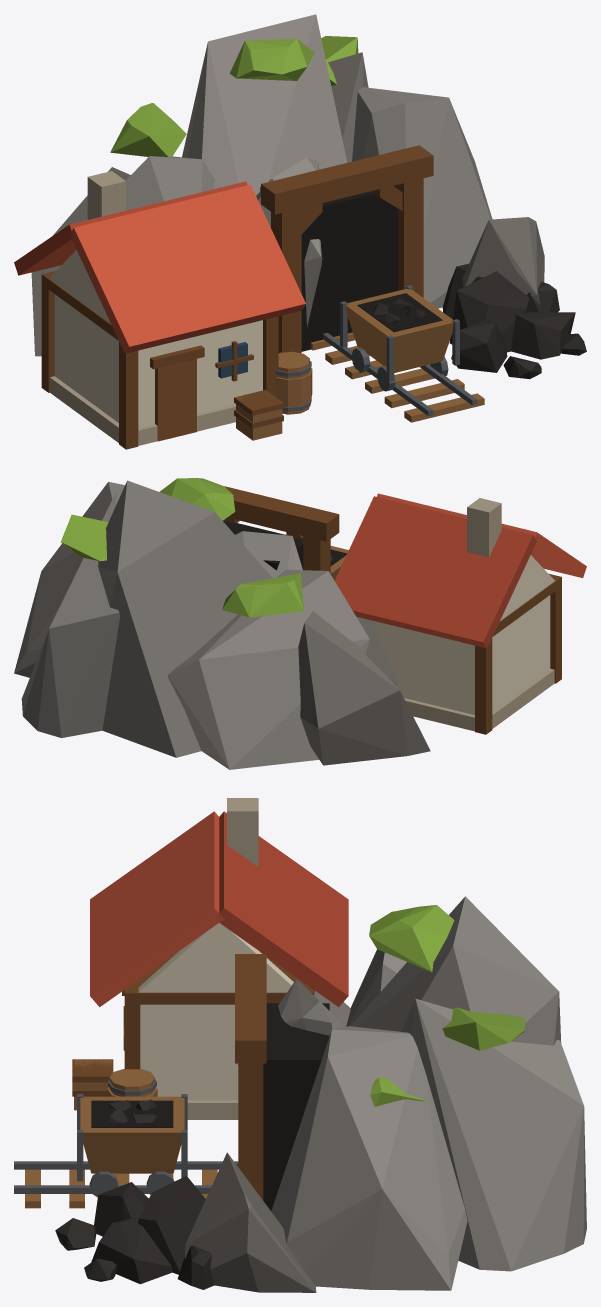
Rendered from mine_coal.glb.
3 views of the same model, one above another, from view 1: azimuth 30°, elevation 25°; view 2: azimuth 150°, elevation 25°; view 3: azimuth 270°, elevation 25° (orthographic). The views are drawn at different scales.
Visible parts, largest first — view 1: mine_coal_fels, mine_coal_dach, mine_coal_balken, mine_coal_stein, mine_coal_dunkel, mine_coal_kohle, mine_coal_holz, mine_coal_gras, mine_coal_fels_dunkel, mine_coal_stein_dunkel, mine_coal_eisen, mine_coal_tuer (+2 smaller); view 2: mine_coal_fels, mine_coal_dach_dunkel, mine_coal_fels_dunkel, mine_coal_stein, mine_coal_balken, mine_coal_gras, mine_coal_stein_dunkel, mine_coal_dach, mine_coal_dunkel; view 3: mine_coal_fels, mine_coal_dach, mine_coal_stein, mine_coal_dach_dunkel, mine_coal_kohle, mine_coal_balken, mine_coal_fels_dunkel, mine_coal_dunkel, mine_coal_holz, mine_coal_gras, mine_coal_eisen, mine_coal_stein_dunkel.
Part boxes in pixels (x1,y1,x2,y2): mine_coal_fels: (126,14,492,327); mine_coal_dach: (70,184,305,353); mine_coal_balken: (41,145,433,449); mine_coal_stein: (49,250,262,427); mine_coal_dunkel: (260,185,442,351); mine_coal_kohle: (373,264,586,379); mine_coal_holz: (236,288,484,440); mine_coal_gras: (110,36,358,157); mine_coal_fels_dunkel: (31,167,544,356); mine_coal_stein_dunkel: (50,171,235,445); mine_coal_eisen: (276,285,477,416); mine_coal_tuer: (155,359,196,441); mine_coal_fels: (14,480,369,769); mine_coal_dach_dunkel: (334,496,536,648); mine_coal_fels_dunkel: (298,611,430,765); mine_coal_stein: (373,555,554,714); mine_coal_balken: (223,486,561,734); mine_coal_gras: (60,478,303,617); mine_coal_stein_dunkel: (404,498,554,731); mine_coal_dach: (377,493,586,577); mine_coal_dunkel: (223,521,347,570); mine_coal_fels: (238,896,586,1290); mine_coal_dach: (90,811,223,1007); mine_coal_stein: (138,923,293,1100); mine_coal_dach_dunkel: (215,811,348,1007); mine_coal_kohle: (55,1099,214,1289); mine_coal_balken: (72,952,313,1200); mine_coal_fels_dunkel: (185,990,350,1292); mine_coal_dunkel: (91,1003,329,1210); mine_coal_holz: (25,1060,217,1208); mine_coal_gras: (369,905,524,1106); mine_coal_eisen: (14,1079,238,1197); mine_coal_stein_dunkel: (187,798,258,1119).
Size of the model in its own units: 3.98 by 1.93 by 3.63.
